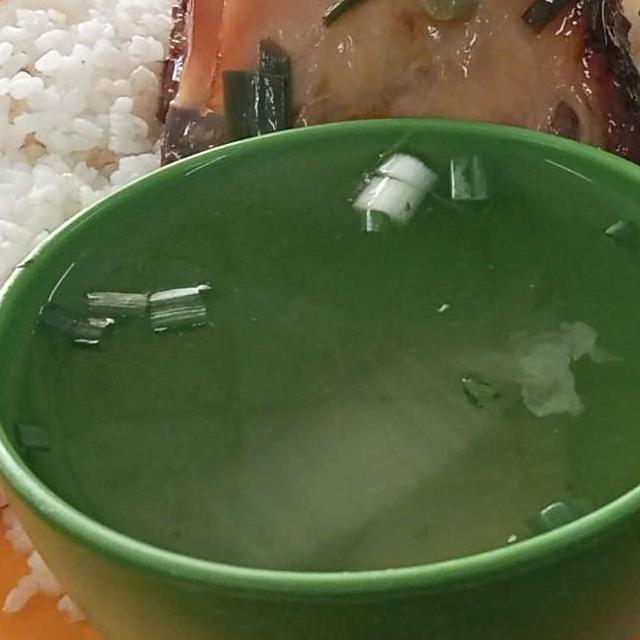com: (0, 0, 199, 532), (0, 500, 98, 635)
thit ga: (143, 0, 640, 221)
